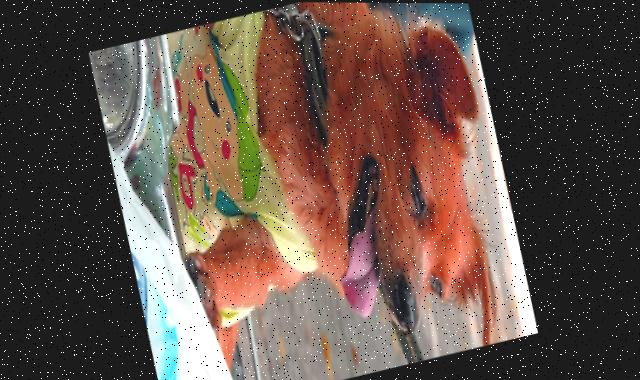dog: (147, 1, 526, 380)
